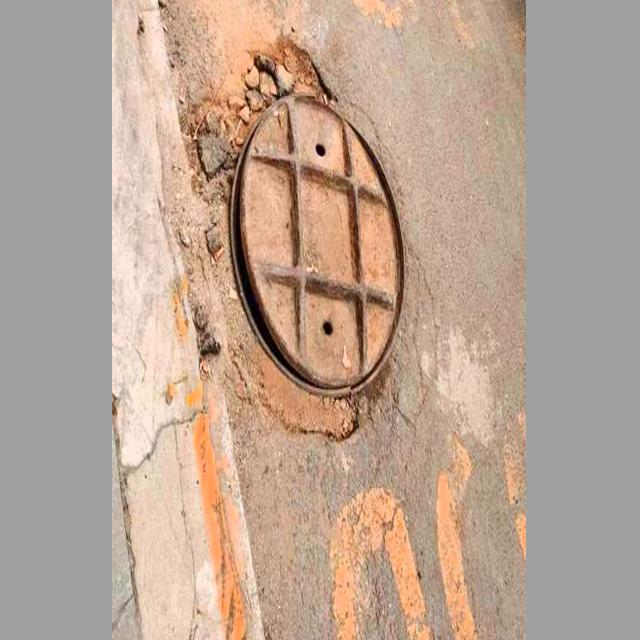circle: (158, 0, 422, 489)
